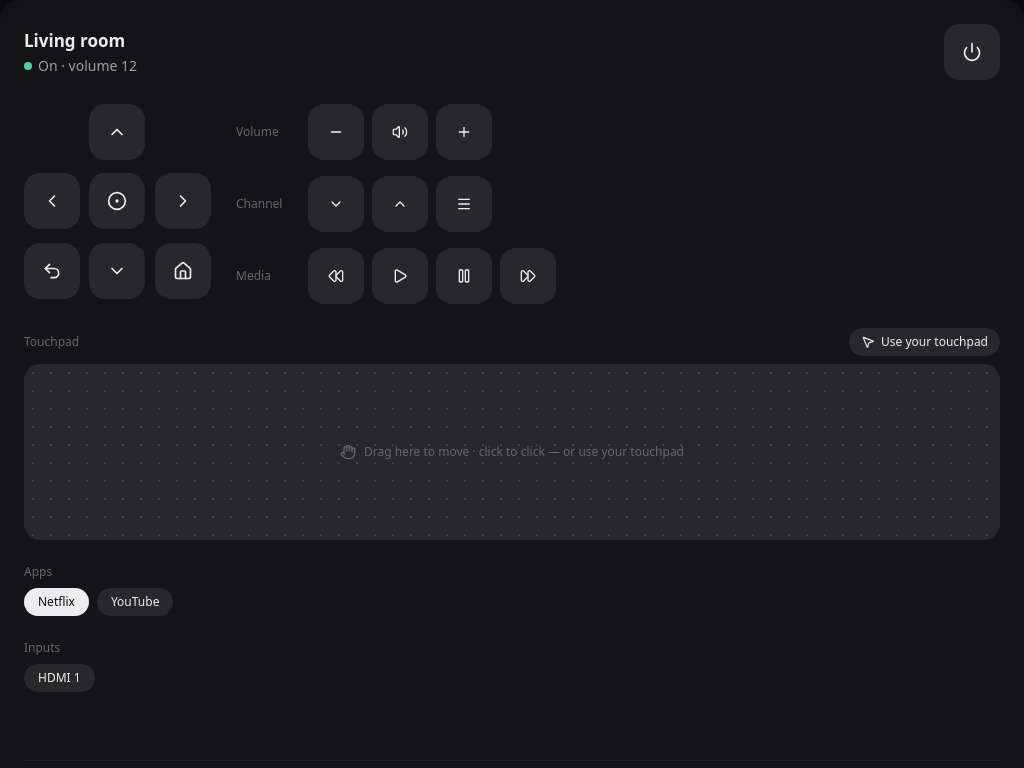
smart home › says what the TV did, or why it couldn't
Later steps or results of the test are not shown.
Check: the text "On · volume 12" is shown, box [24,56,137,76]
Click the button named "Volume up": (464, 132) [436,104,492,160]
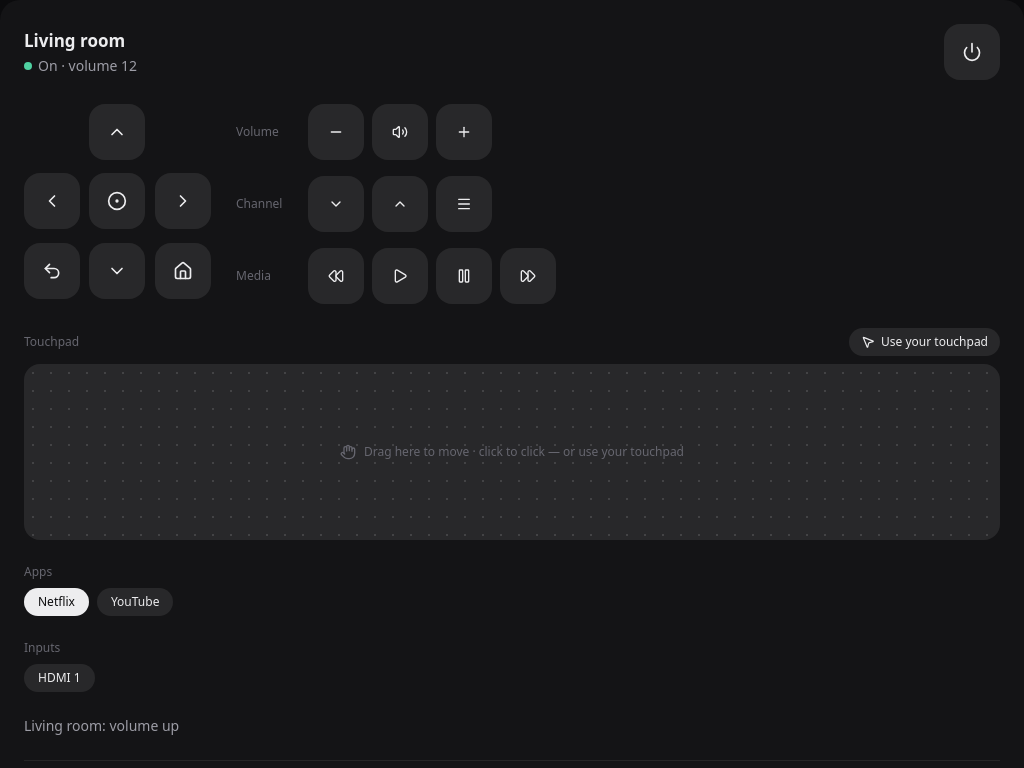
Check: the text "Living room: volume up" is shown, box [24,716,179,735]
Click the button named "Channel up": (400, 204) [372,176,428,232]
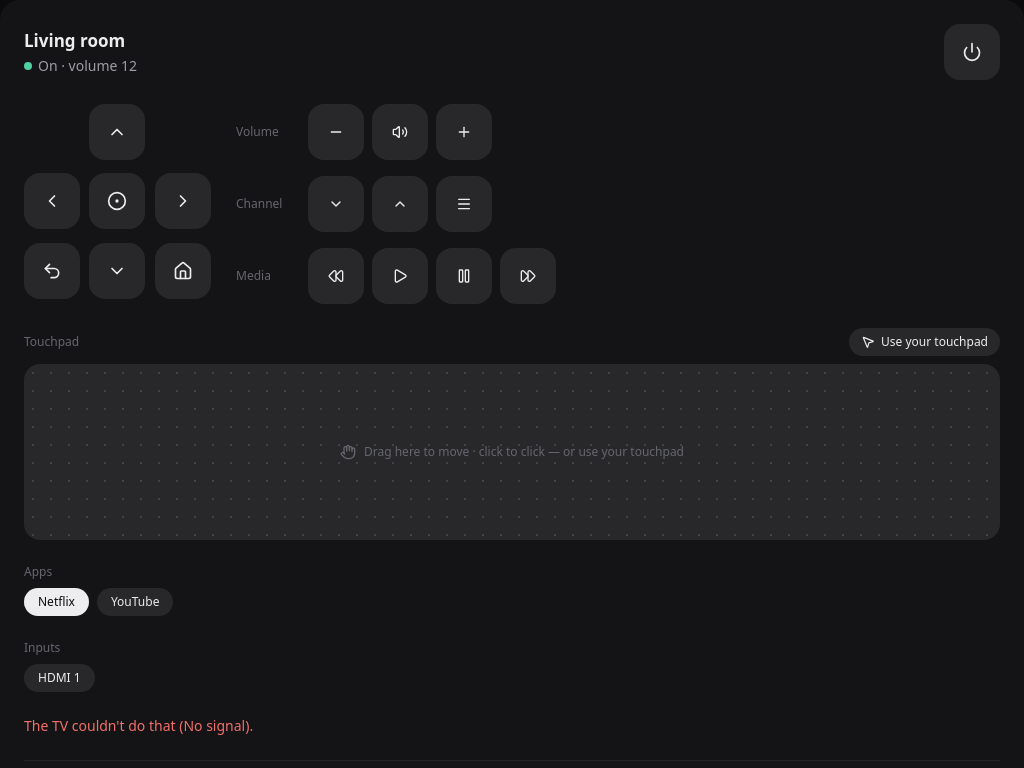
Check: the button "YouTube" is enabled, box [97,588,173,616]
Check: the text "The TV couldn't do that (No signal)." is shown, box [24,716,253,735]
